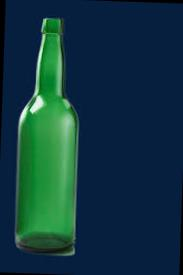glass: (3, 11, 108, 271)
